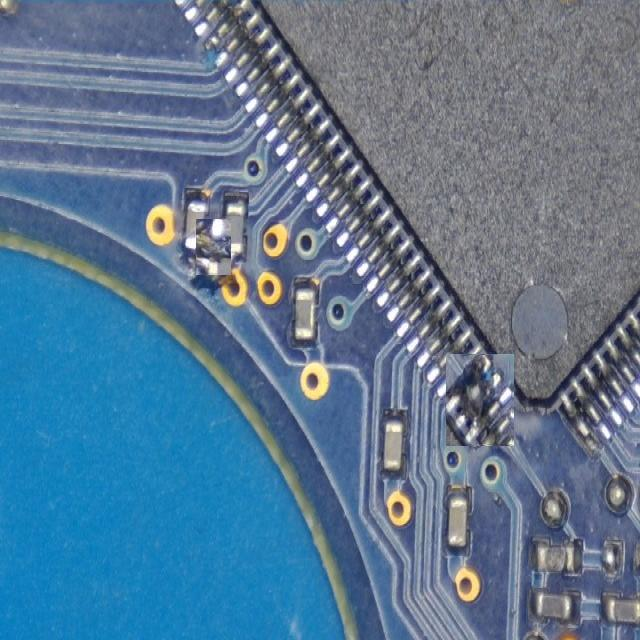Short_circuit: (447, 355, 512, 445), (195, 219, 231, 274)
